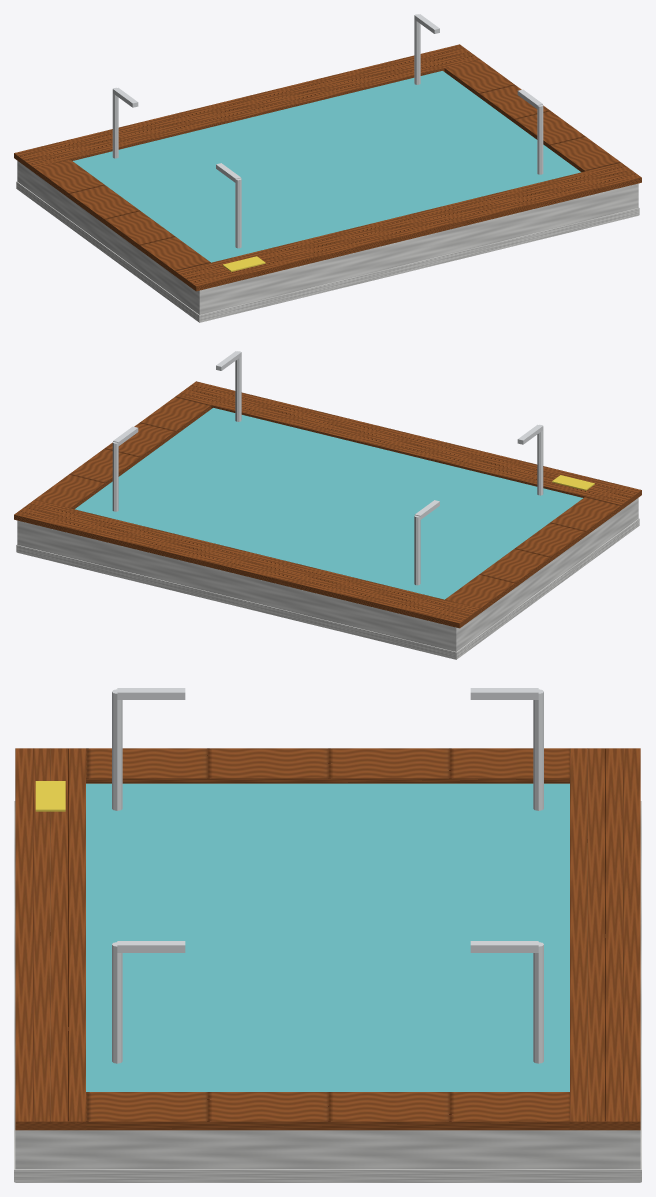
The model's file is cruise-ship-deck-and-lounge-cruise-ship-deck-and-loung-62a525fc__38432.glb.
3 renders of one model, top to bottom at view 1: azimuth 30°, elevation 25°; view 2: azimuth 150°, elevation 25°; view 3: azimuth 270°, elevation 25°, orthographic. The views are drawn at different scales.
Visible parts, largest first — view 1: cruise-ship-deck-and-lounge-pool-module; view 2: cruise-ship-deck-and-lounge-pool-module; view 3: cruise-ship-deck-and-lounge-pool-module.
Boxes of the visible parts, x1,y1,x2,y2 form: cruise-ship-deck-and-lounge-pool-module: (14, 14, 641, 322); cruise-ship-deck-and-lounge-pool-module: (14, 351, 641, 659); cruise-ship-deck-and-lounge-pool-module: (14, 688, 641, 1182).
Bounding box in the file's own units: 6.5 × 1.48 × 4.62.
7 materials, 2 textured.
